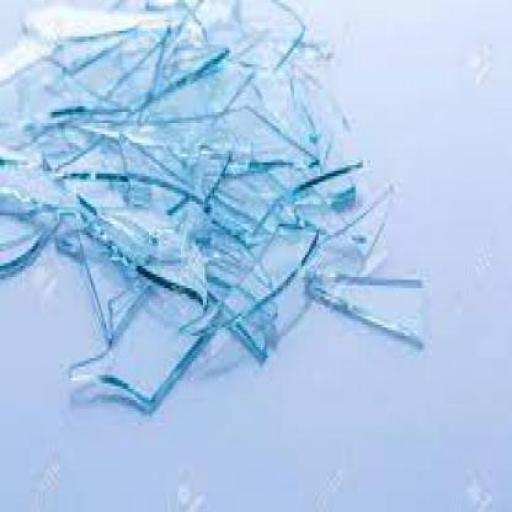glass: (64, 271, 212, 403), (69, 176, 203, 305), (115, 98, 313, 181), (175, 218, 316, 330), (0, 36, 127, 157), (52, 22, 170, 118), (303, 260, 421, 344), (173, 36, 289, 120), (74, 221, 144, 344), (316, 180, 393, 277), (176, 168, 278, 241), (203, 243, 266, 361), (0, 129, 80, 218), (15, 0, 162, 46), (284, 104, 363, 184), (132, 36, 222, 106), (154, 0, 242, 65), (45, 103, 117, 176), (284, 70, 345, 140), (0, 202, 58, 272), (242, 0, 302, 62), (112, 171, 188, 218), (115, 138, 175, 196), (278, 22, 332, 68), (46, 202, 89, 255), (292, 193, 337, 233), (358, 212, 390, 263), (320, 170, 356, 205)
